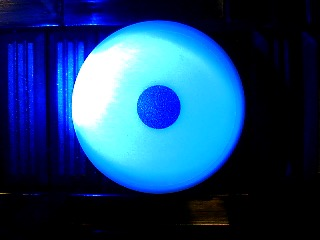BOHO: (70, 20, 246, 195)
